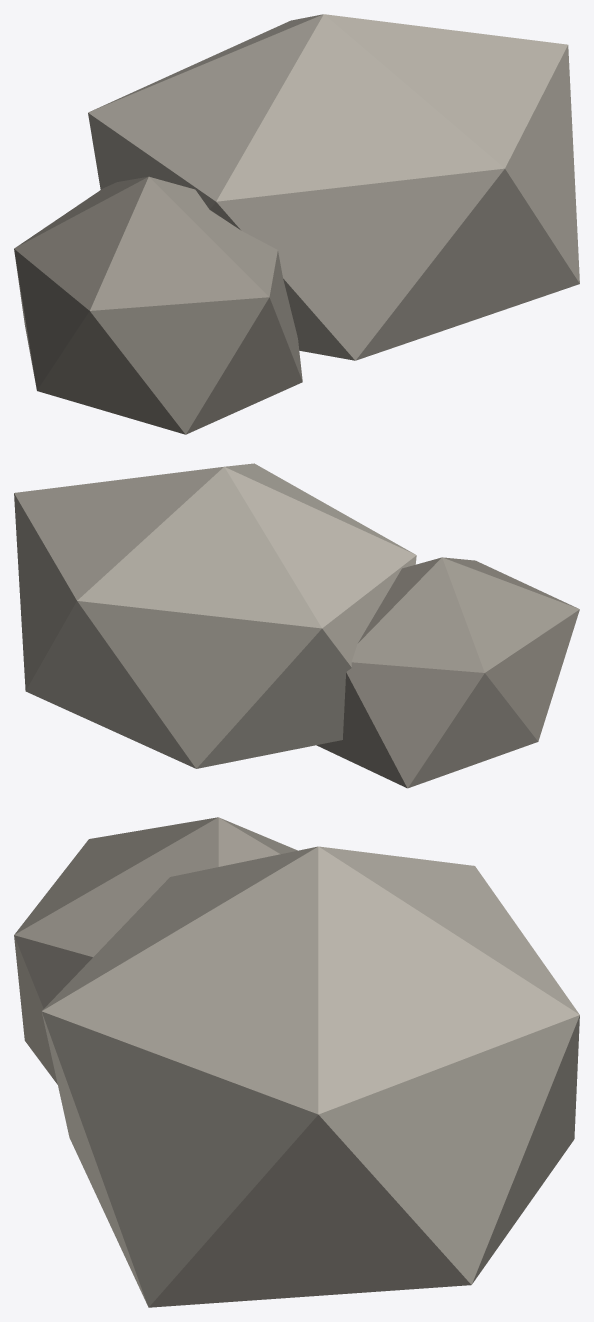
3 views of the same model, one above another, from view 1: azimuth 30°, elevation 25°; view 2: azimuth 150°, elevation 25°; view 3: azimuth 270°, elevation 25° (orthographic). The views are drawn at different scales.
Parts seen in each view (by area): view 1: stone_outcrop; view 2: stone_outcrop; view 3: stone_outcrop.
Boxes of the visible parts, box(x1,y1,x2,y2) form: stone_outcrop: box(14, 14, 579, 434); stone_outcrop: box(14, 463, 579, 788); stone_outcrop: box(14, 817, 579, 1307).
Bounding box in the file's own units: 2.53 × 1.22 × 1.7.
Materials: 1 (1 with a texture image).
